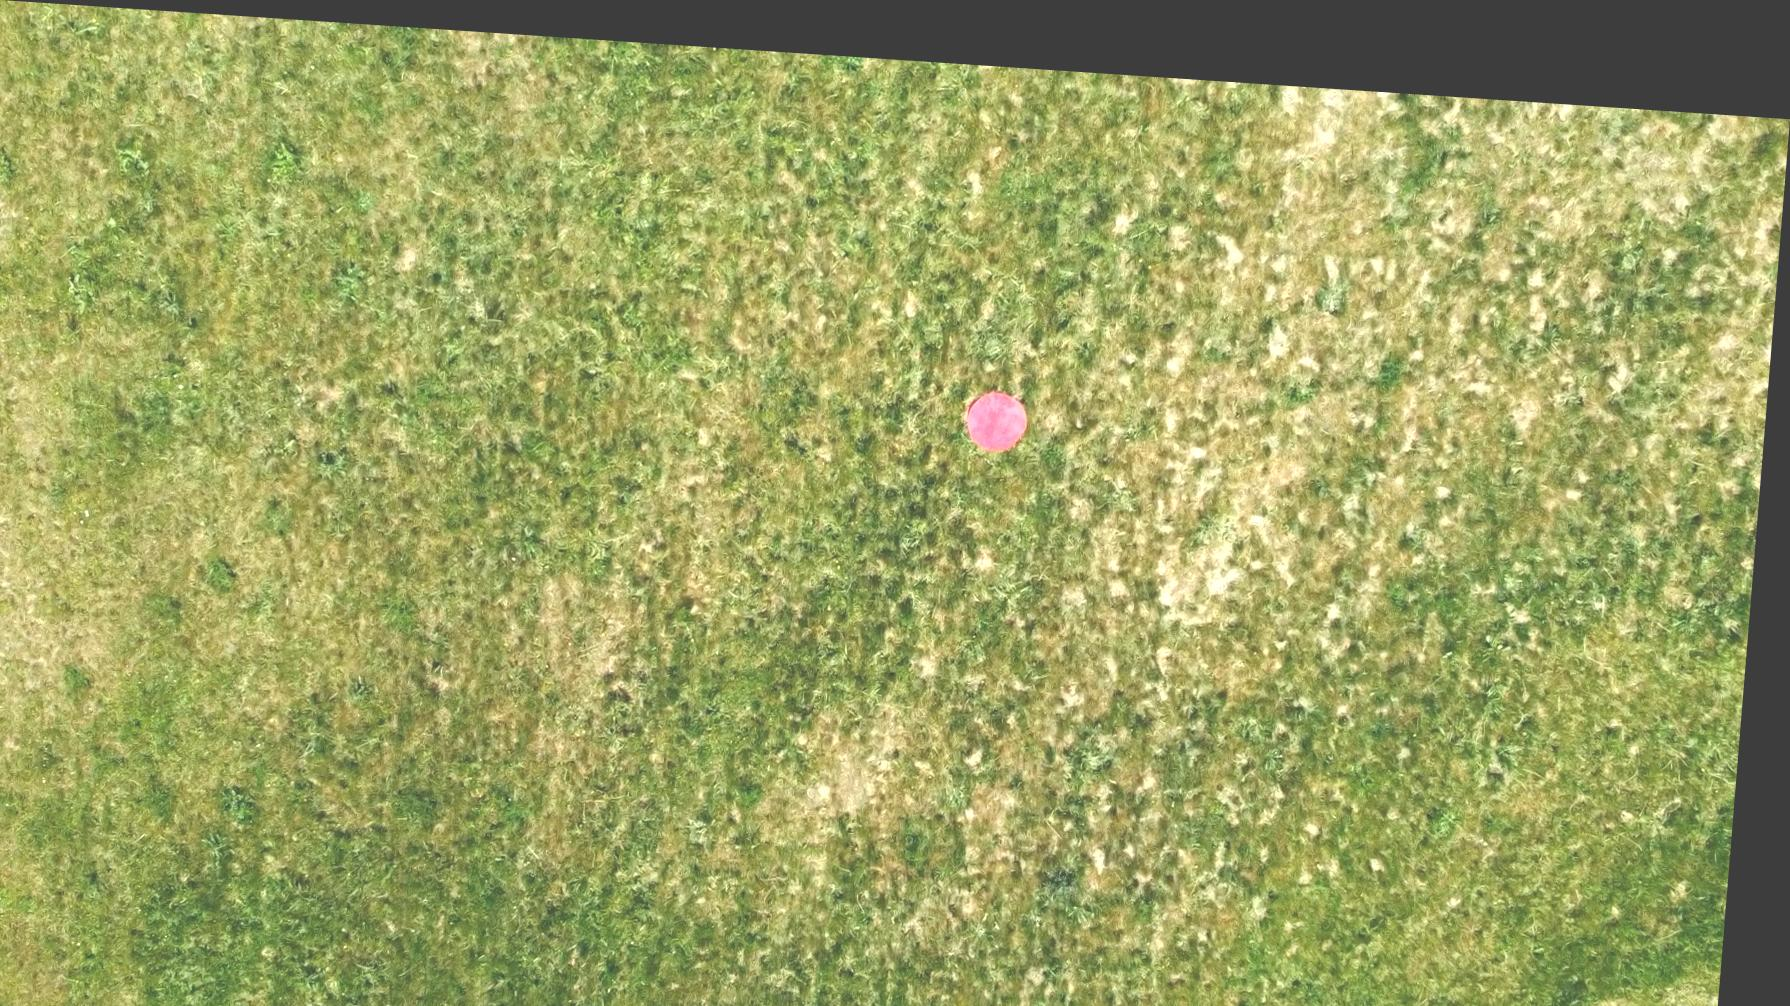Red: (968, 370, 1040, 442)
